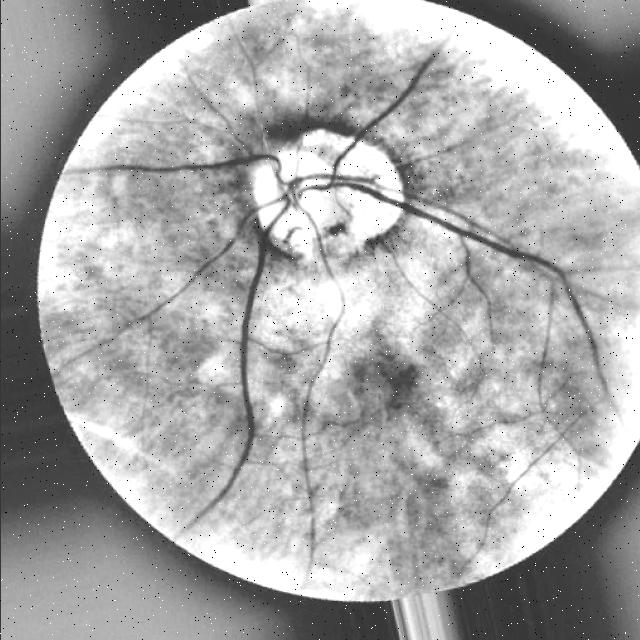Macula: (349, 349, 418, 420)
Nerves: (306, 176, 630, 437), (177, 207, 289, 534), (113, 194, 277, 338), (322, 23, 457, 173), (71, 147, 293, 191), (246, 43, 279, 152)
Optic Disk: (248, 130, 341, 258)
